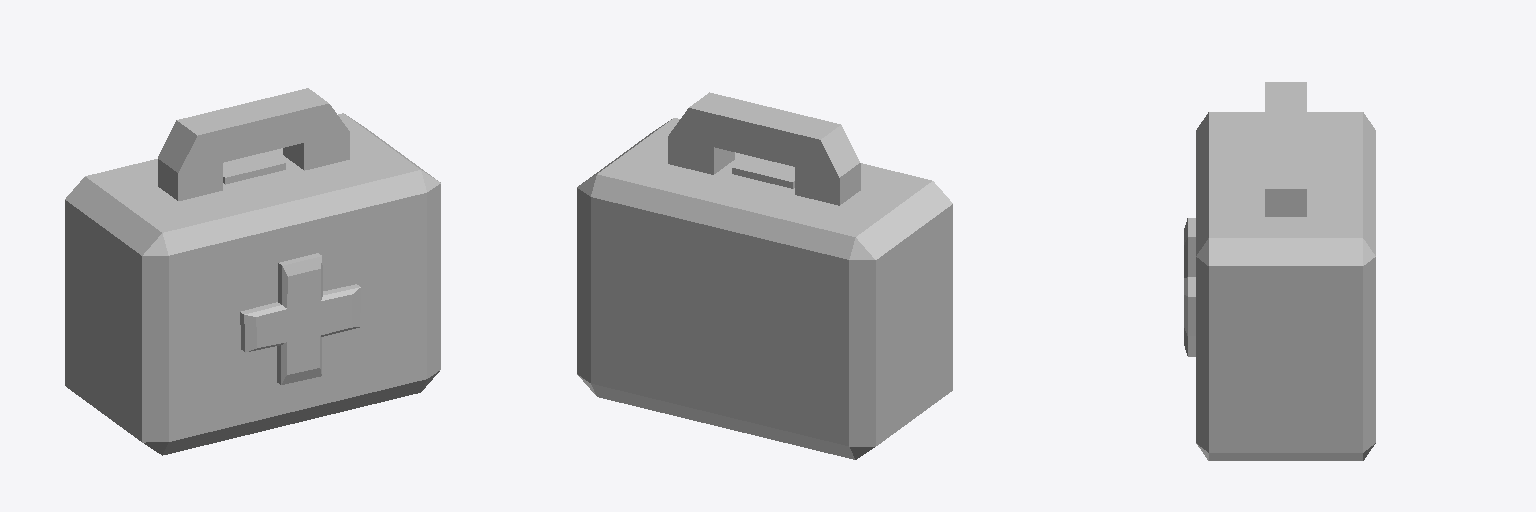
The model's file is medkit.obj.
The picture shows the model from 3 angles: view 1: azimuth 30°, elevation 25°; view 2: azimuth 150°, elevation 25°; view 3: azimuth 270°, elevation 25°; orthographic projection.
Parts seen in each view (by area): view 1: Medkit_Cube; view 2: Medkit_Cube; view 3: Medkit_Cube.
Part boxes in pixels (x1,y1,x2,y2): Medkit_Cube: (65, 88, 440, 455); Medkit_Cube: (577, 92, 952, 459); Medkit_Cube: (1184, 82, 1375, 460).
Bounding box in the file's own units: 56.26 × 51.06 × 31.25.